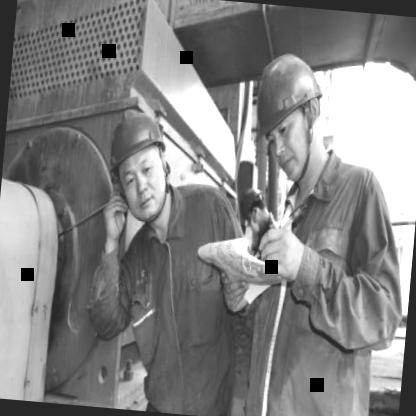helmet: (238, 41, 335, 191), (96, 99, 176, 226), (236, 185, 265, 226)
